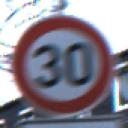speed_limit_30: (12, 14, 114, 114)
